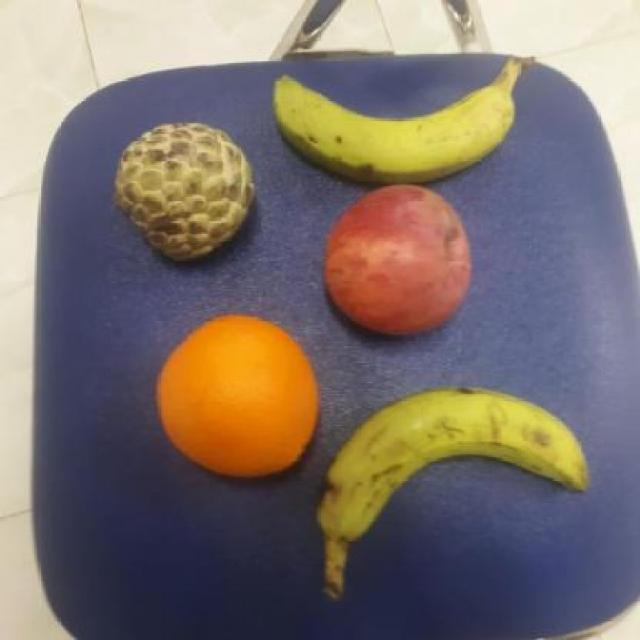apple: (322, 183, 476, 335)
banana: (318, 385, 590, 543), (272, 66, 520, 189)
oren: (154, 310, 323, 482)
sugar apple: (104, 118, 258, 264)
